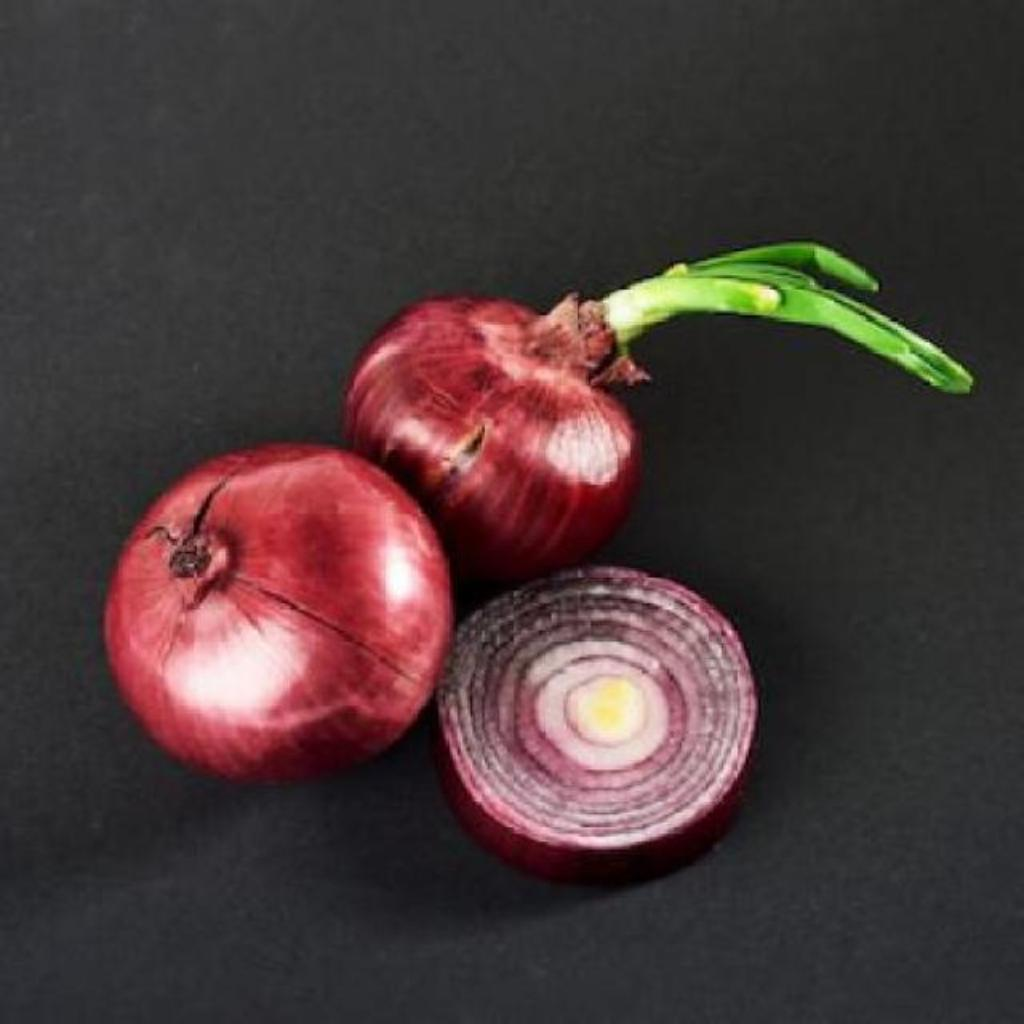Onion: (104, 445, 453, 782), (344, 294, 648, 582)
